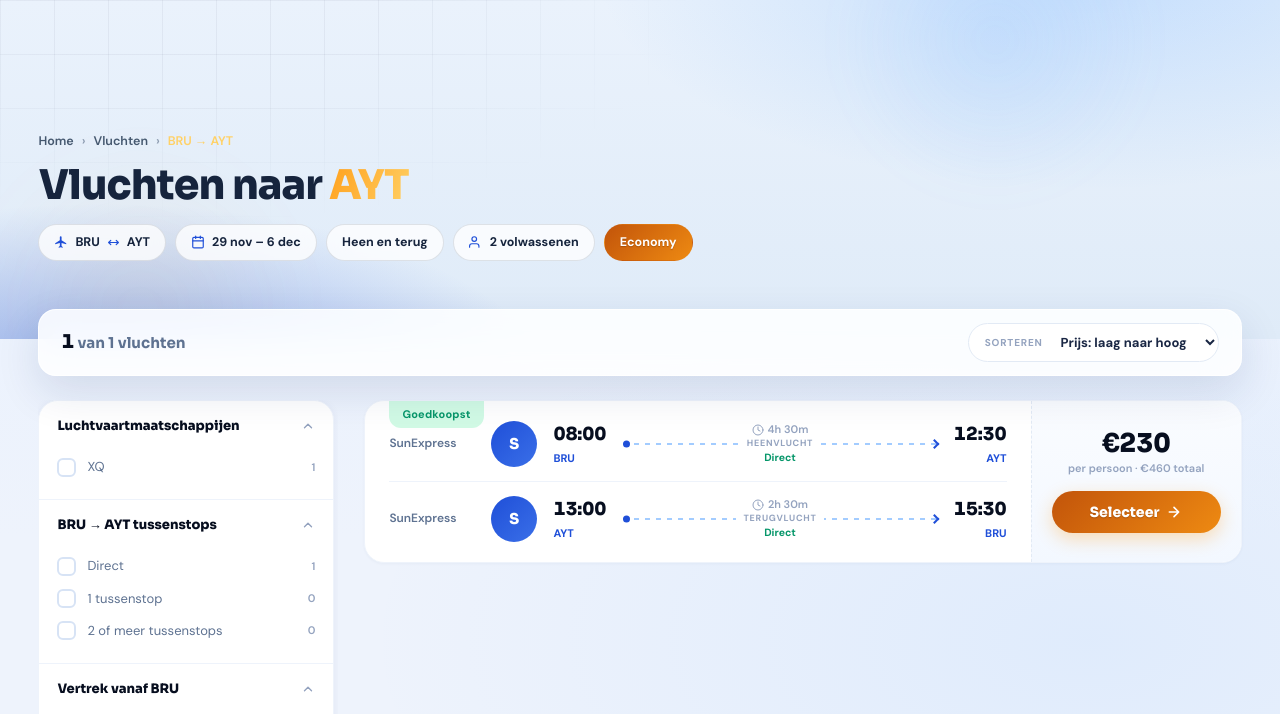
Test: Select checks the fare live before anyone can book it › NOT_AVAILABLE says so and stops, without moving on
Click the button "Selecteer": (1136, 512) [1052,491,1221,533]
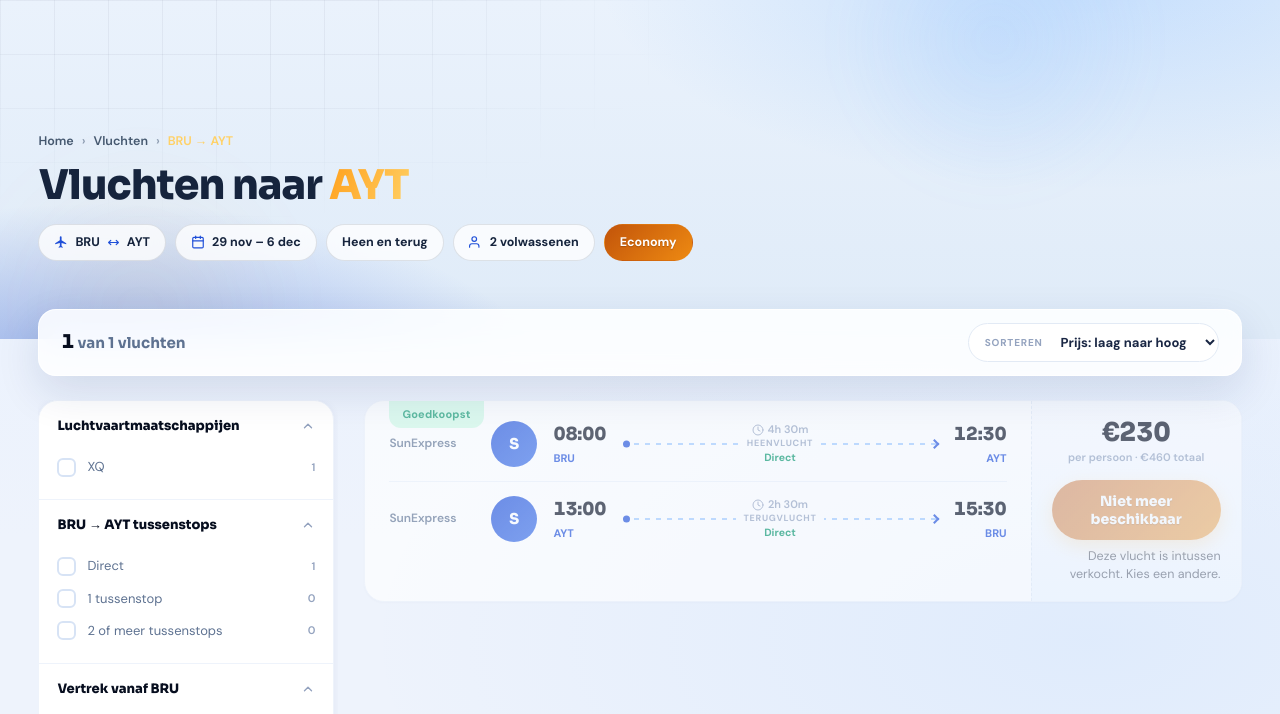
Expected: the text "Deze vlucht is intussen verkocht. Kies een andere." is shown, [1052,548,1221,583]
